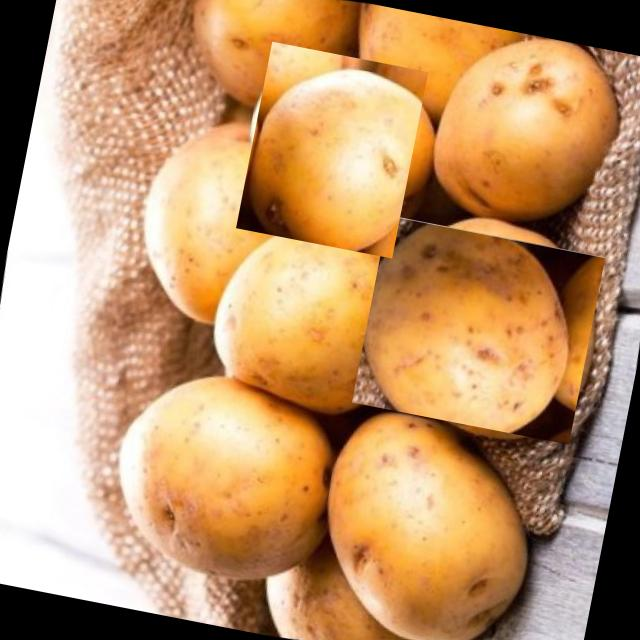potato: (352, 215, 606, 445), (196, 197, 410, 418), (229, 48, 434, 253)
